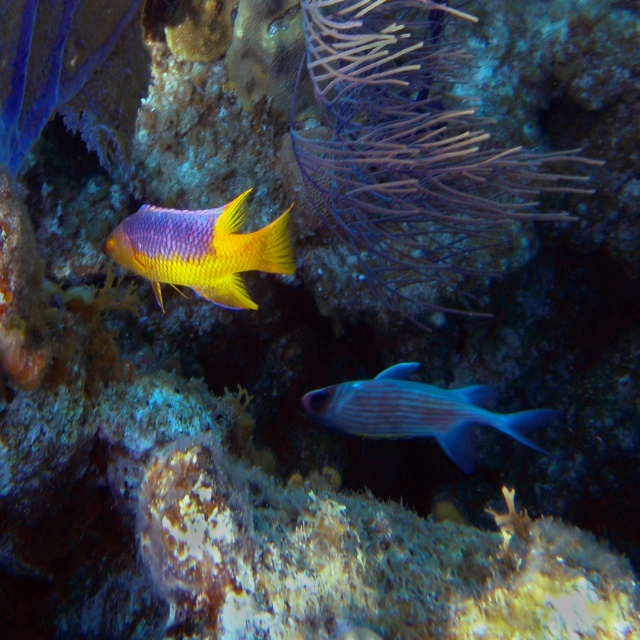Fish: (297, 355, 555, 478), (96, 176, 295, 319)
